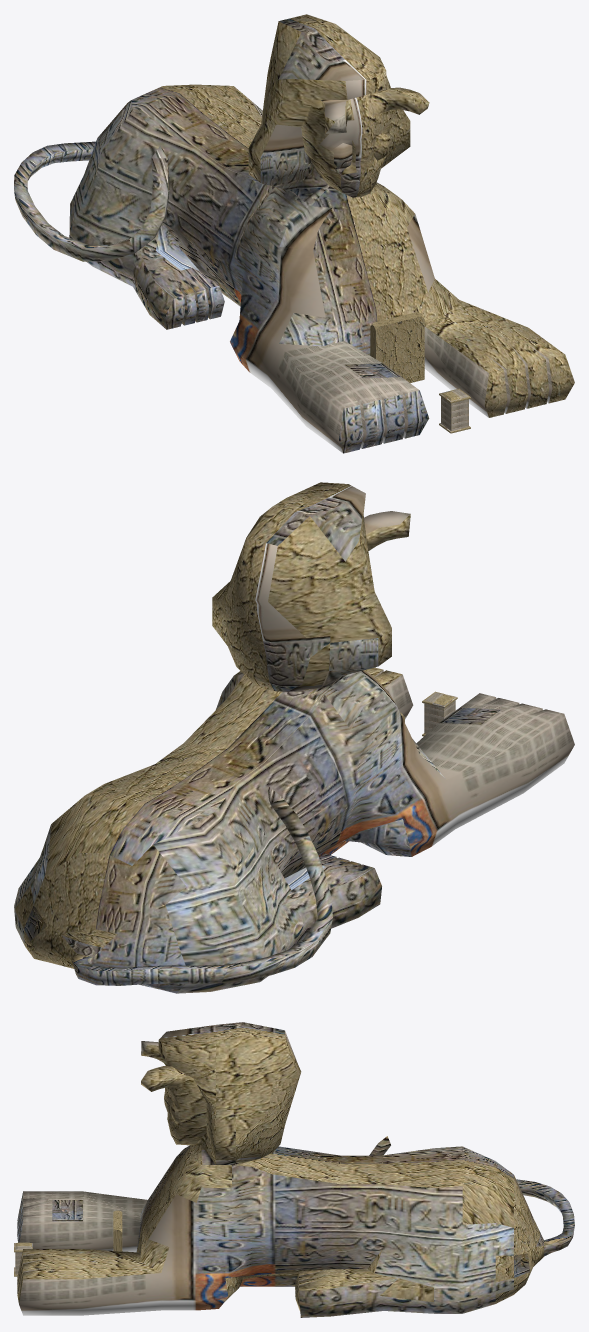
Rendered from Mesh_Sphinx.DAE.
3 renders of one model, top to bottom at view 1: azimuth 30°, elevation 25°; view 2: azimuth 150°, elevation 25°; view 3: azimuth 270°, elevation 25°, orthographic. The views are drawn at different scales.
Parts seen in each view (by area): view 1: Sphinx_PIVOT; view 2: Sphinx_PIVOT; view 3: Sphinx_PIVOT.
Part boxes in pixels (x1,y1,x2,y2): Sphinx_PIVOT: (14, 14, 574, 453); Sphinx_PIVOT: (14, 482, 574, 993); Sphinx_PIVOT: (14, 1022, 574, 1317).
Bounding box in the file's own units: 593 × 1346 × 645.
